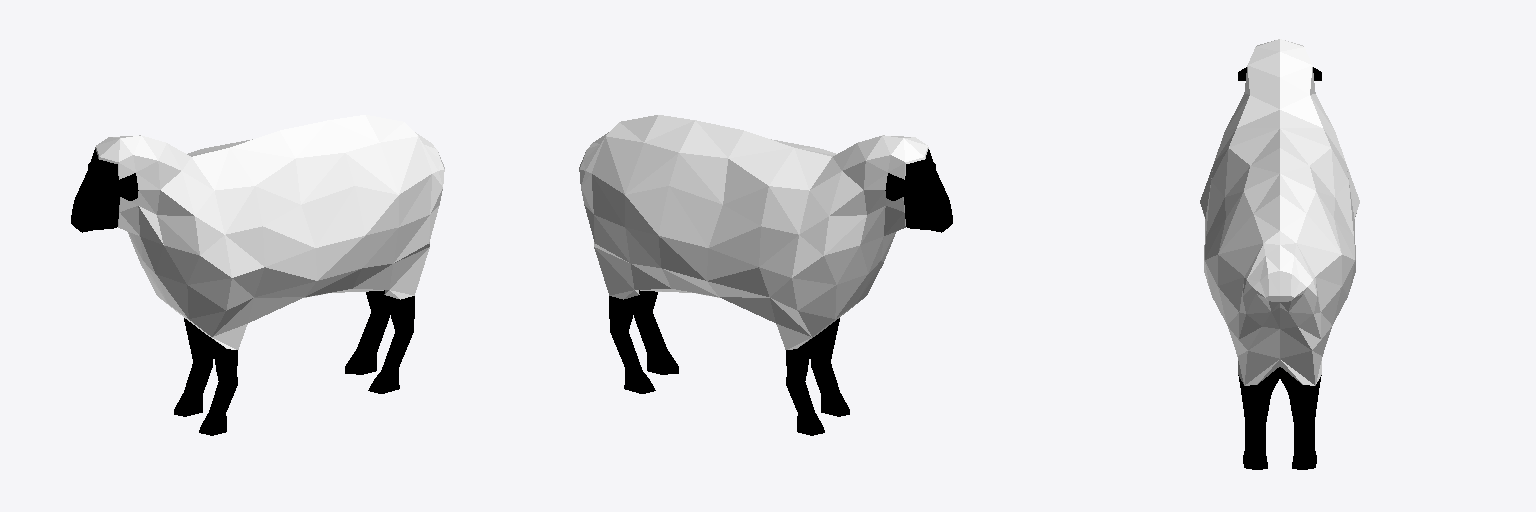
Rendered from sheep.obj.
3 renders of one model, left to right at view 1: azimuth 30°, elevation 25°; view 2: azimuth 150°, elevation 25°; view 3: azimuth 270°, elevation 25°, orthographic.
Visible parts, largest first — view 1: Low_poly_sheep; view 2: Low_poly_sheep; view 3: Low_poly_sheep.
Part boxes in pixels (bbox=[...]): Low_poly_sheep: bbox=[71, 115, 444, 435]; Low_poly_sheep: bbox=[579, 115, 952, 435]; Low_poly_sheep: bbox=[1200, 39, 1359, 469].
Bounding box in the file's own units: 1.95 × 1.53 × 0.7381.